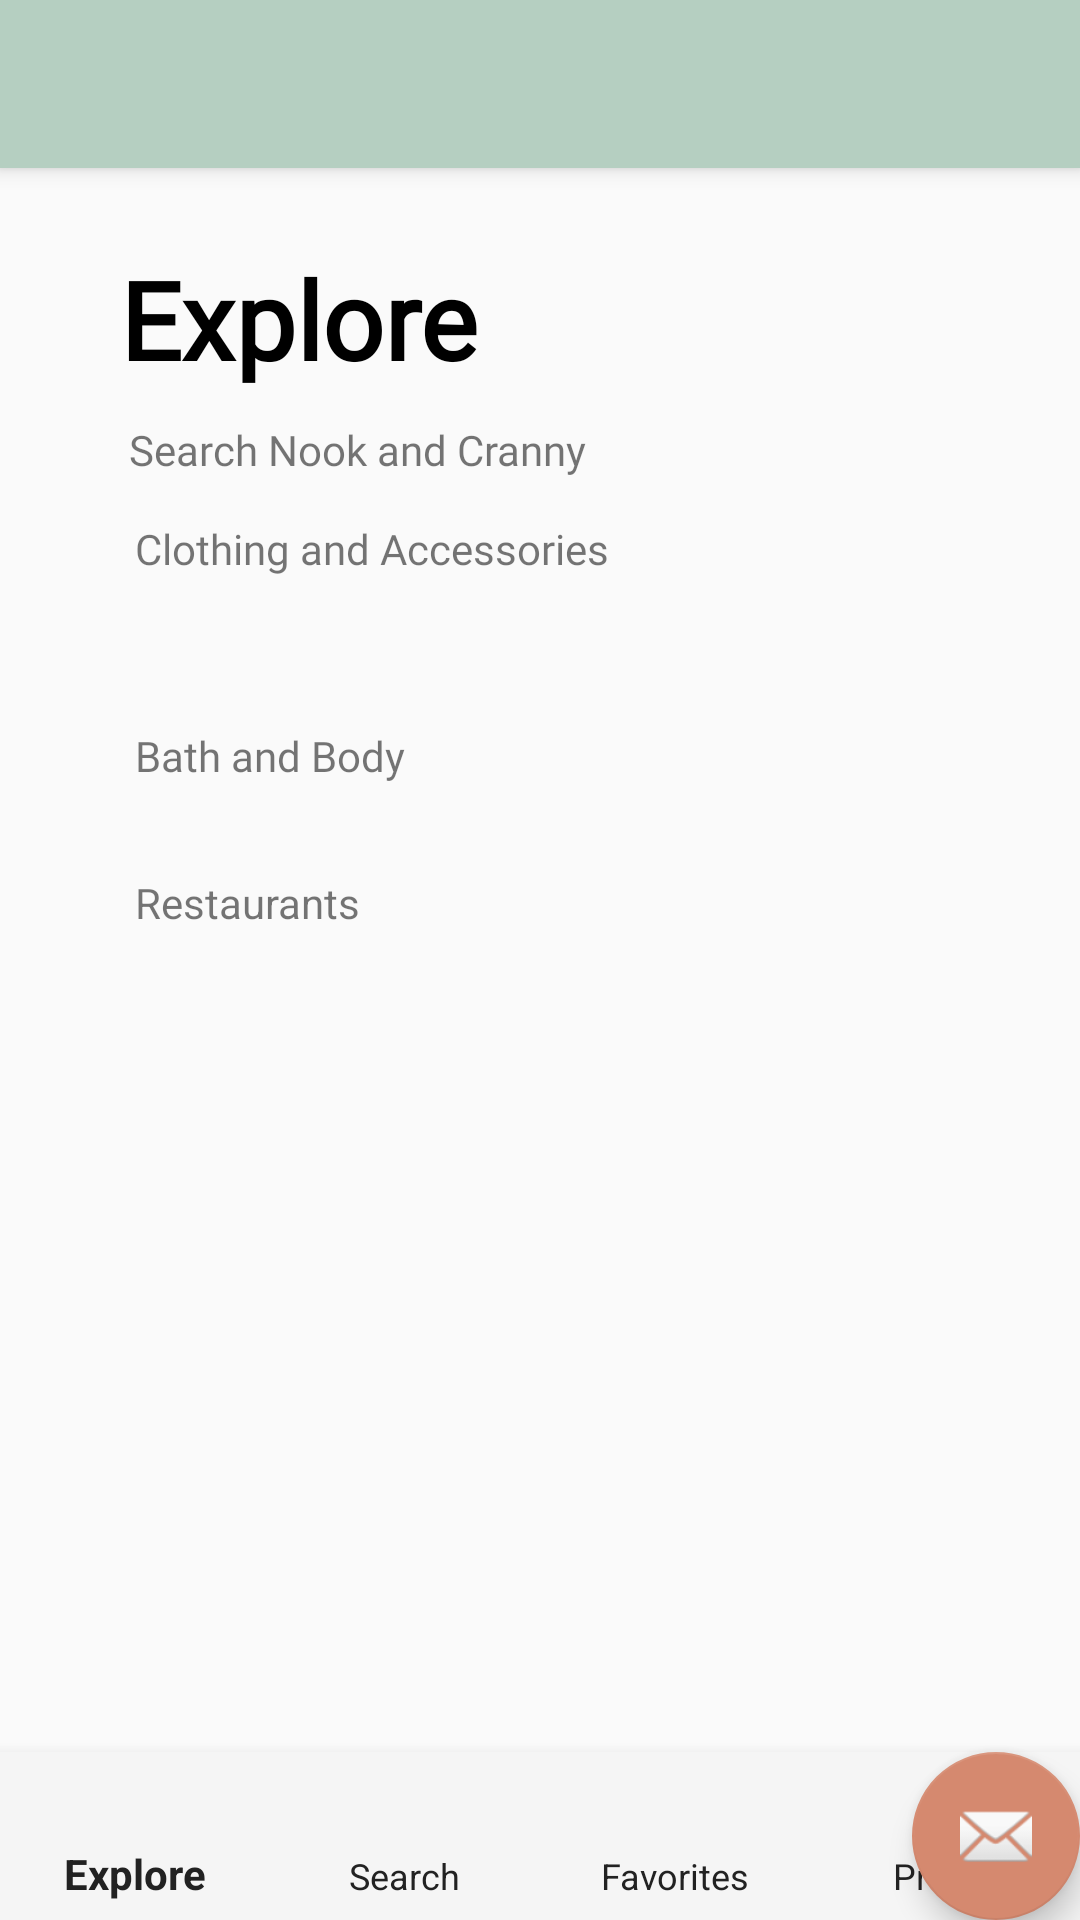

Where to tap for icons on this 1080px×1920px app screen, as (x,y):
email: (996,1836)
